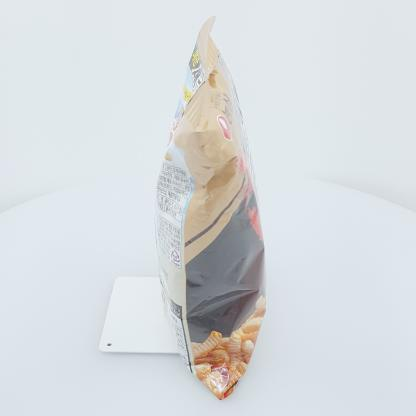Plastic Packaging: (146, 10, 274, 406)
